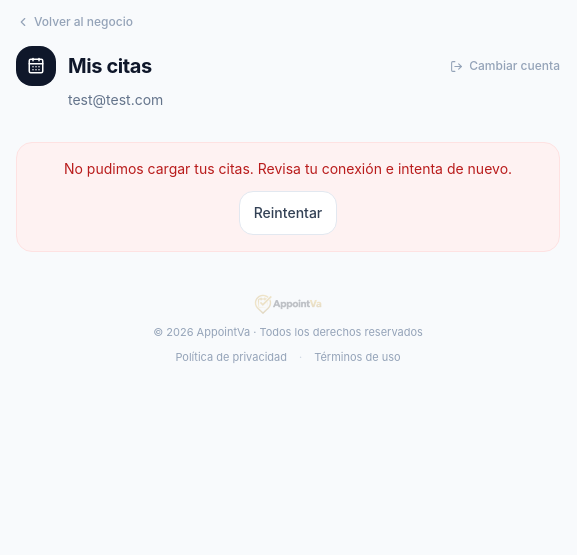
Scenario: MisCitasPage › un fallo de red ofrece Reintentar en vez de culpar a los datos (AP-25)
This screenshot has width=577, height=555.
Expected: the message shows "No pudimos cargar tus citas", x1=64 y1=160 x2=512 y2=177
Expected: the message does not show "Verifica tu información", x1=16 y1=142 x2=560 y2=252
Click the button "Reintentar" at (288, 213), box x1=239 y1=191 x2=337 y2=235
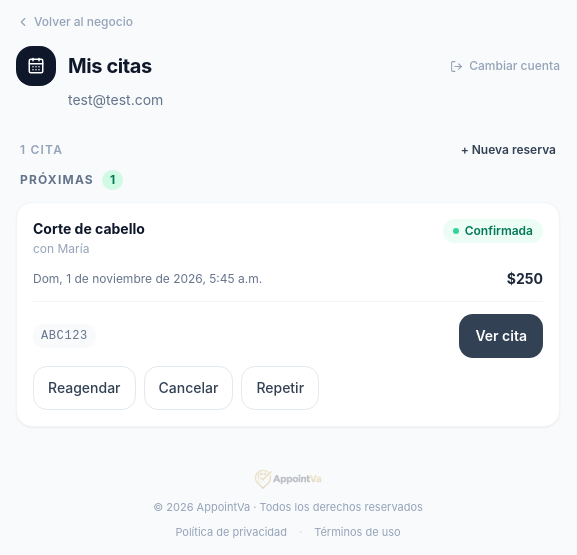
Expected: the text "Corte de cabello" is shown, x1=33 y1=220 x2=145 y2=237
